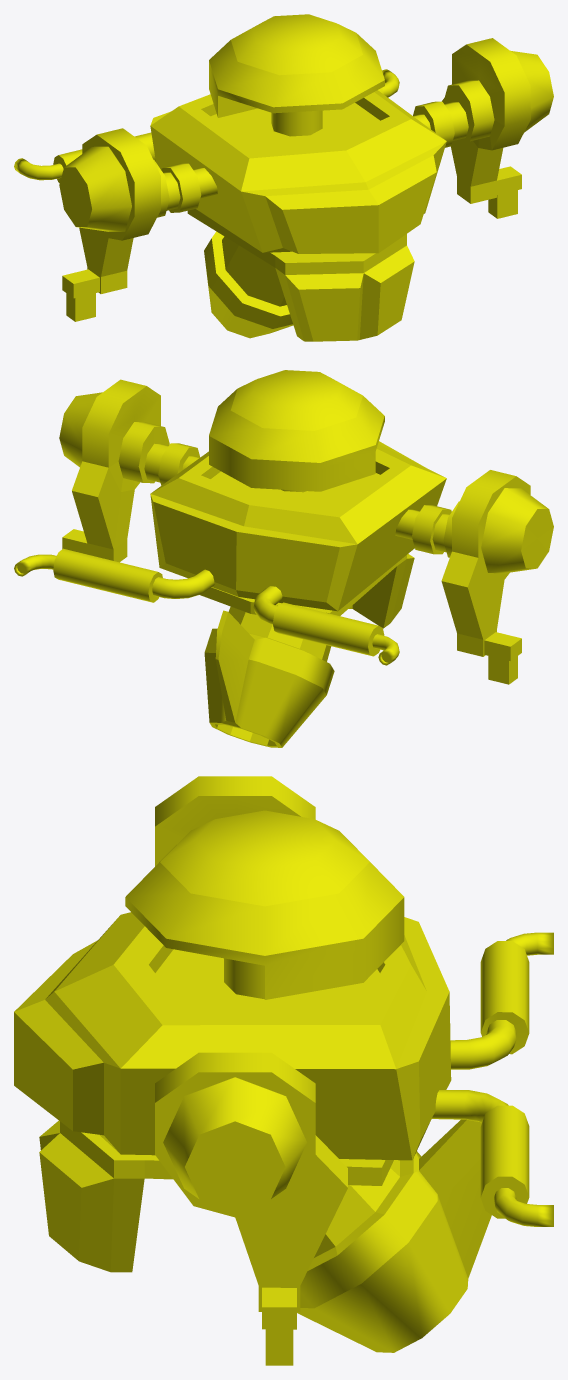
The model's file is robStandard_body.fbx.
3 views of the same model, one above another, from view 1: azimuth 30°, elevation 25°; view 2: azimuth 150°, elevation 25°; view 3: azimuth 270°, elevation 25° (orthographic). The views are drawn at different scales.
Visible parts, largest first — view 1: robStandard_body; view 2: robStandard_body; view 3: robStandard_body.
Boxes of the visible parts, box(x1,y1,x2,y2) form: robStandard_body: box(14, 14, 553, 341); robStandard_body: box(14, 370, 553, 747); robStandard_body: box(14, 776, 553, 1365).
Bounding box in the file's own units: 92.02 × 62.75 × 60.84.
